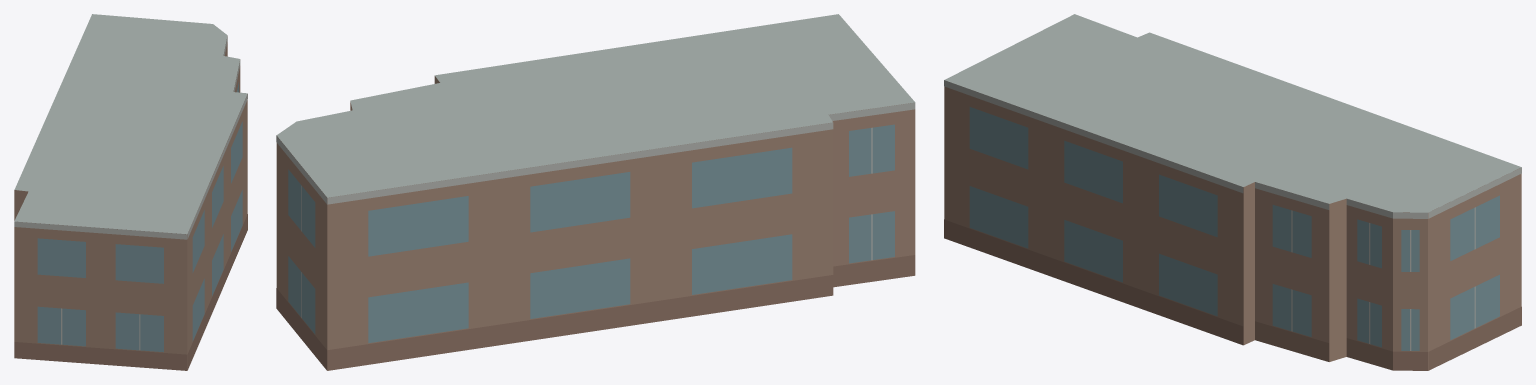
File: survey-upis-32562046.glb
The picture shows the model from 3 angles, left to right: view 1: azimuth 30°, elevation 25°; view 2: azimuth 150°, elevation 25°; view 3: azimuth 270°, elevation 25°; orthographic projection. The views are drawn at different scales.
Visible parts, largest first — view 1: survey-upis-32562046.tmp; view 2: survey-upis-32562046.tmp; view 3: survey-upis-32562046.tmp.
Part boxes in pixels (x1,y1,x2,y2): survey-upis-32562046.tmp: [14, 14, 247, 370]; survey-upis-32562046.tmp: [276, 14, 915, 370]; survey-upis-32562046.tmp: [944, 14, 1521, 370].
Size of the model in its own units: 16.43 by 6.1 by 20.19.
